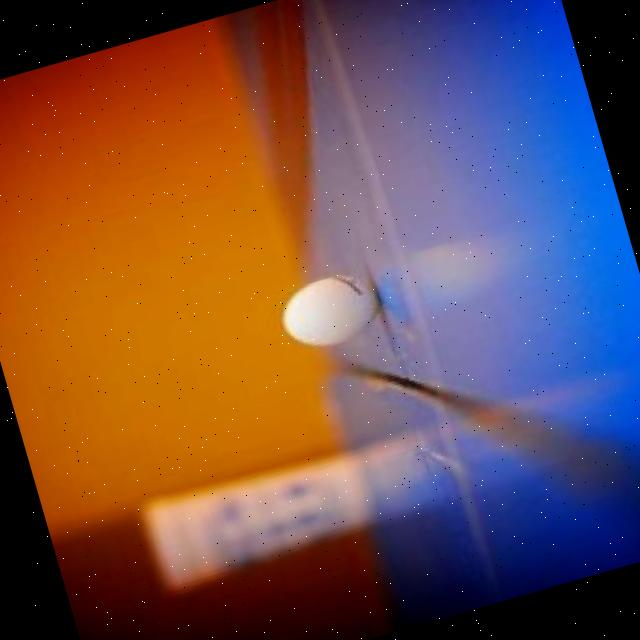ping-pong-ball: (270, 264, 386, 356)
